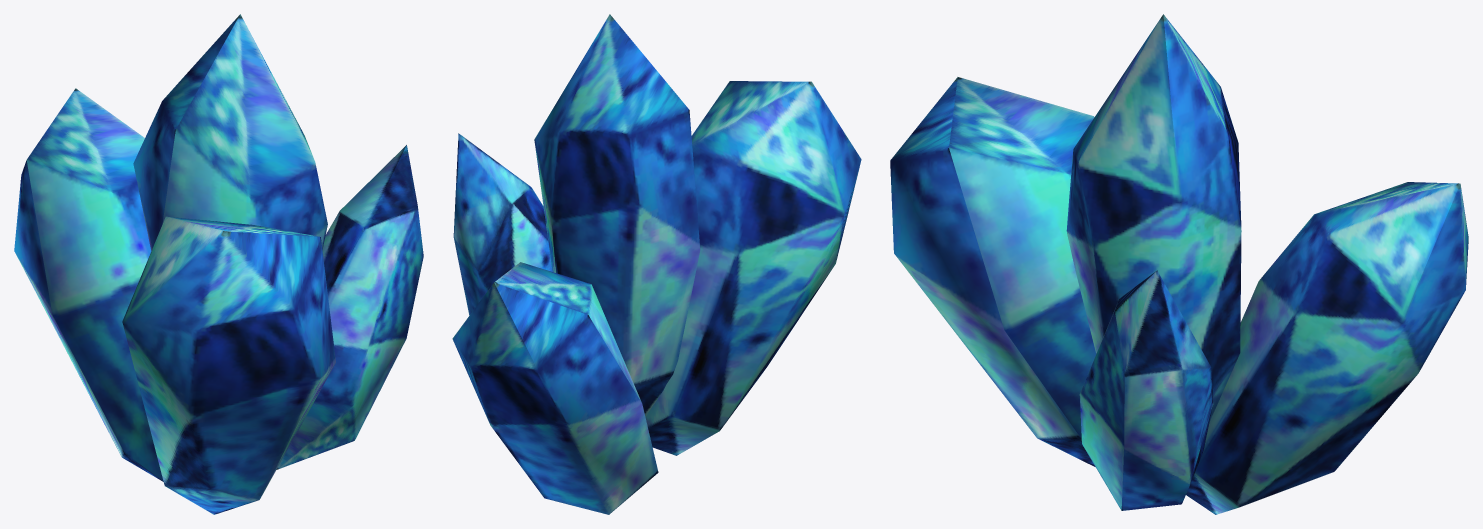
File: INST_EKH_CRYSTAL_CLUSTER_01.fbx
The picture shows the model from 3 angles, left to right: view 1: azimuth 30°, elevation 25°; view 2: azimuth 150°, elevation 25°; view 3: azimuth 270°, elevation 25°; orthographic projection. The views are drawn at different scales.
Visible parts, largest first — view 1: INST_EKH_CRYSTAL_CLUSTER_01; view 2: INST_EKH_CRYSTAL_CLUSTER_01; view 3: INST_EKH_CRYSTAL_CLUSTER_01.
Boxes of the visible parts, x1,y1,x2,y2 form: INST_EKH_CRYSTAL_CLUSTER_01: (14,14,423,514); INST_EKH_CRYSTAL_CLUSTER_01: (452,14,861,514); INST_EKH_CRYSTAL_CLUSTER_01: (890,14,1468,514).
Size of the model in its own units: 8471 by 11556 by 11808.
1 material, 1 textured.
